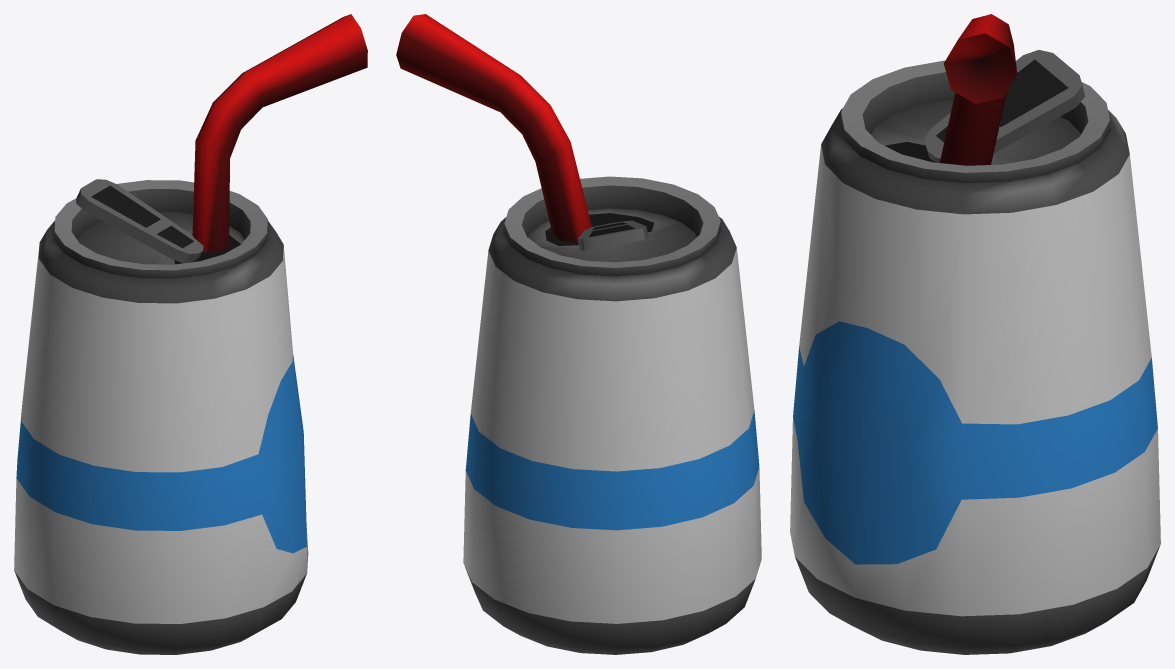
Rendered from Can.glb.
3 views of the same model, side by side, from view 1: azimuth 30°, elevation 25°; view 2: azimuth 150°, elevation 25°; view 3: azimuth 270°, elevation 25° (orthographic). The views are drawn at different scales.
Visible parts, largest first — view 1: MESH_Can; view 2: MESH_Can; view 3: MESH_Can.
Part boxes in pixels (x1=…): MESH_Can: x1=14, y1=14, x2=367, y2=654; MESH_Can: x1=396, y1=14, x2=761, y2=654; MESH_Can: x1=790, y1=14, x2=1160, y2=654.
Bounding box in the file's own units: 1.55 × 2.45 × 1.21.
